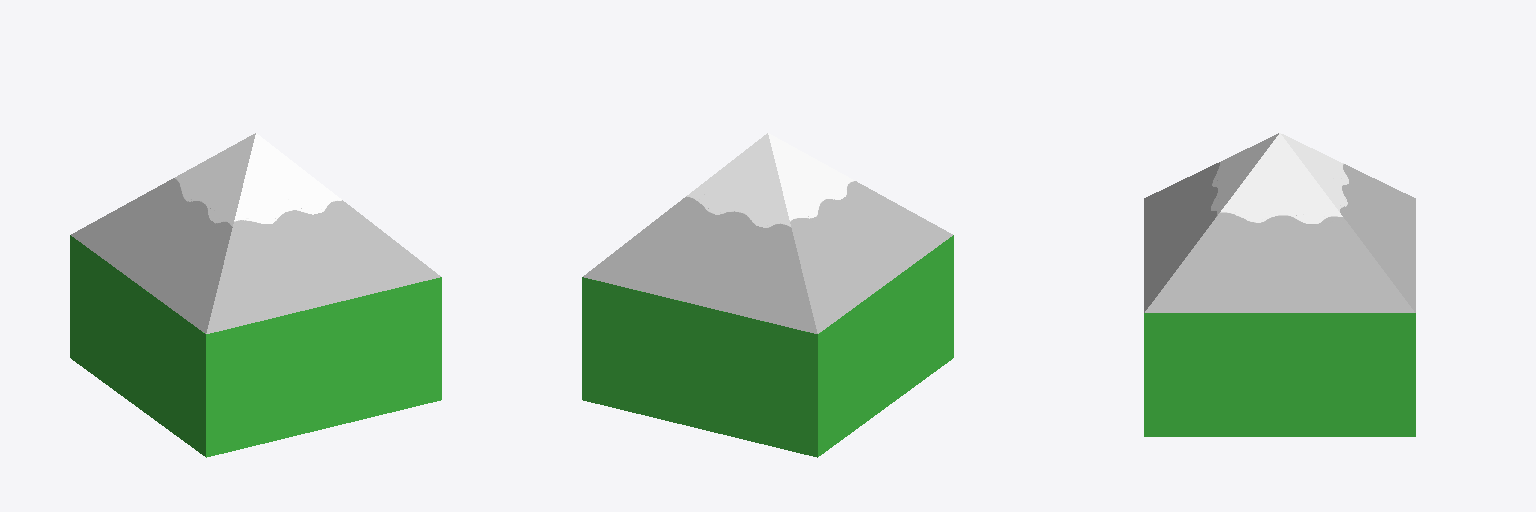
The picture shows the model from 3 angles: view 1: azimuth 30°, elevation 25°; view 2: azimuth 150°, elevation 25°; view 3: azimuth 270°, elevation 25°; orthographic projection.
Parts seen in each view (by area): view 1: Box002, Pyramid001; view 2: Box002, Pyramid001; view 3: Pyramid001, Box002.
Part boxes in pixels (bbox=[...]): Box002: bbox=[70, 235, 441, 457]; Pyramid001: bbox=[71, 133, 440, 333]; Box002: bbox=[582, 235, 953, 457]; Pyramid001: bbox=[583, 133, 952, 333]; Pyramid001: bbox=[1144, 133, 1415, 312]; Box002: bbox=[1144, 313, 1415, 436].
Size of the model in its own units: 100 by 100 by 100.
2 materials, 1 textured.